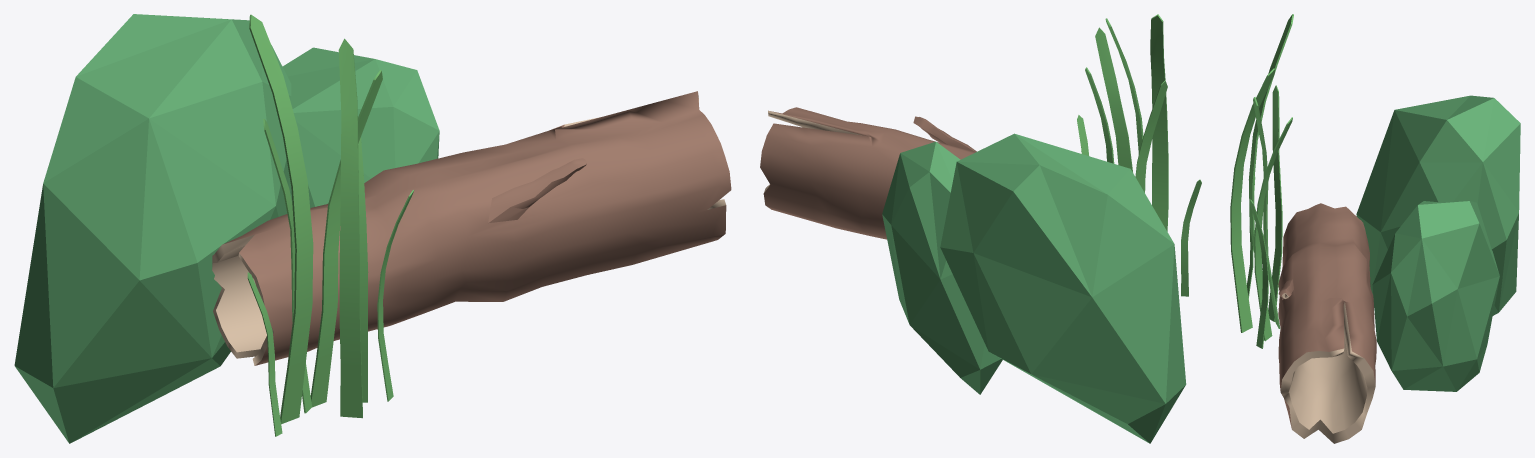
The model's file is Park_Struik_NEW_2.fbx.
The picture shows the model from 3 angles, left to right: view 1: azimuth 30°, elevation 25°; view 2: azimuth 150°, elevation 25°; view 3: azimuth 270°, elevation 25°; orthographic projection. The views are drawn at different scales.
Parts seen in each view (by area): view 1: polySurface1284; view 2: polySurface1284; view 3: polySurface1284.
Boxes of the visible parts, x1,y1,x2,y2 form: polySurface1284: [14, 14, 731, 443]; polySurface1284: [760, 14, 1201, 443]; polySurface1284: [1230, 14, 1520, 443].
Size of the model in its own units: 7.16 by 5.4 by 4.04.
